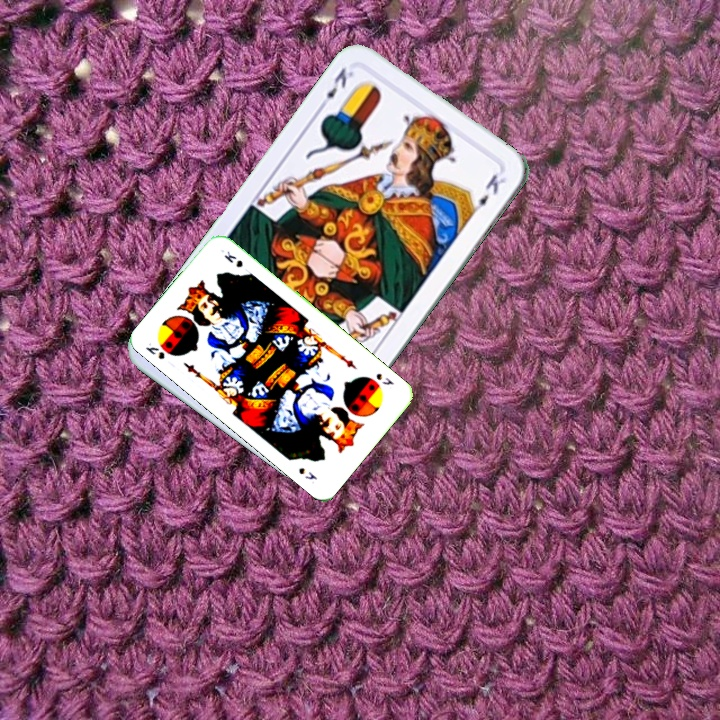EK: (315, 63, 357, 112)
SK: (142, 339, 167, 362), (372, 369, 397, 388)
